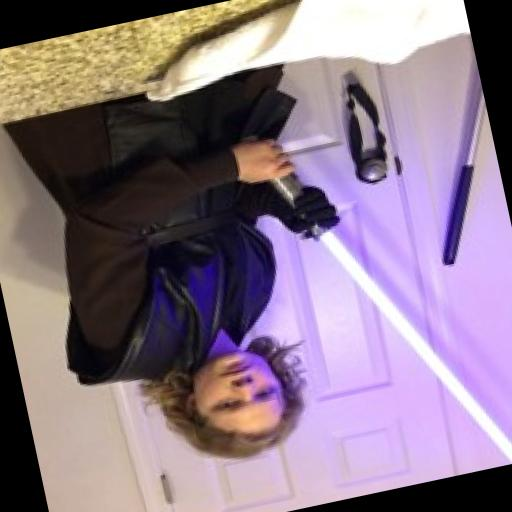human: (0, 64, 365, 494)
lightsaber: (242, 94, 512, 503)
